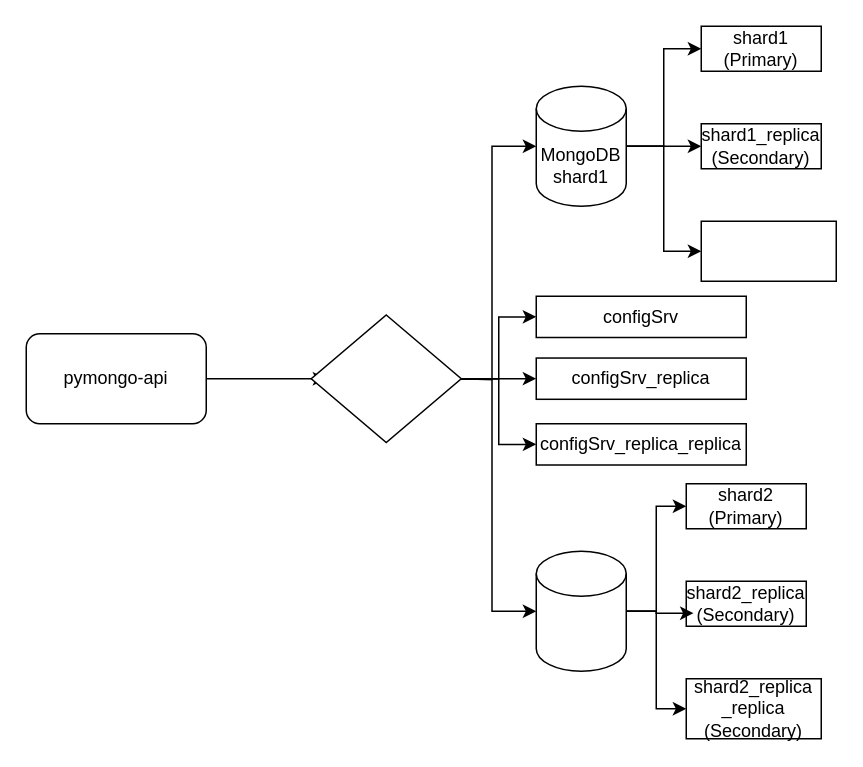
The diagram is 863 pixels wide and 767 high, and some of its shapes have lost their labels. Here are the shapes that lost their labels. From the top down, the centre of each, then its label:
At point 768,250: "shard1_replica _replica (Secondary)".
At point 385,378: "mongos_router".
At point 580,610: "MongoDB shard2".
